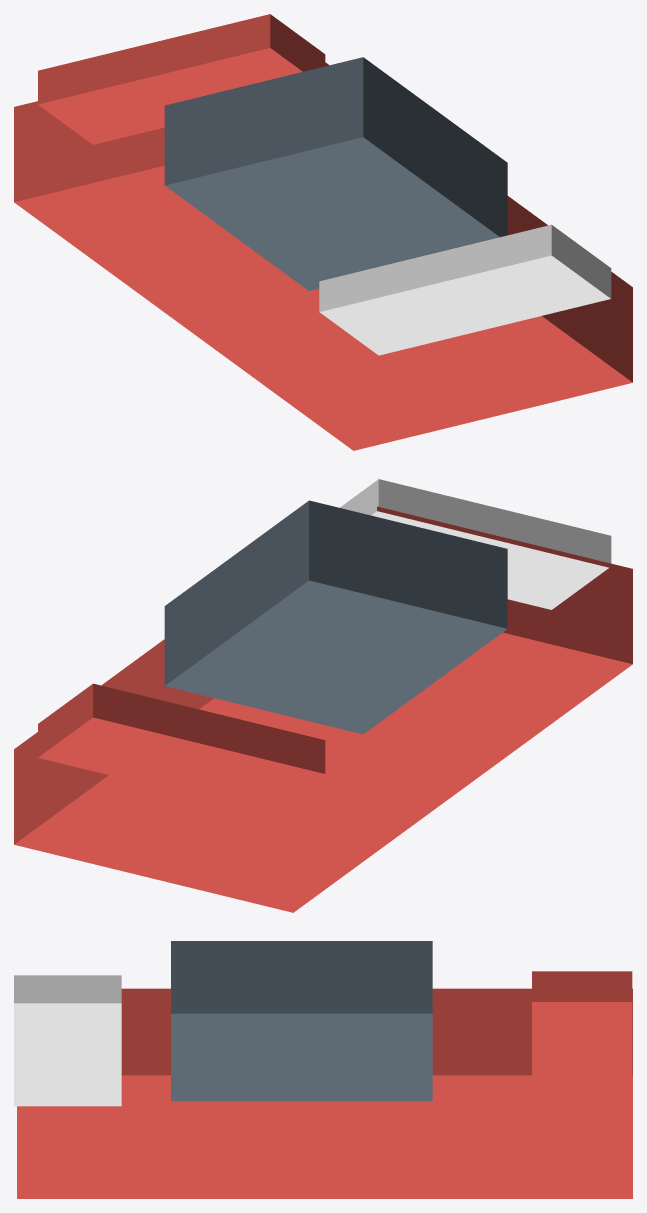
File: starter_car.glb
3 renders of one model, top to bottom at view 1: azimuth 30°, elevation 25°; view 2: azimuth 150°, elevation 25°; view 3: azimuth 270°, elevation 25°, orthographic. The views are drawn at different scales.
Size of the model in its own units: 1.9 by 1.09 by 4.02.
